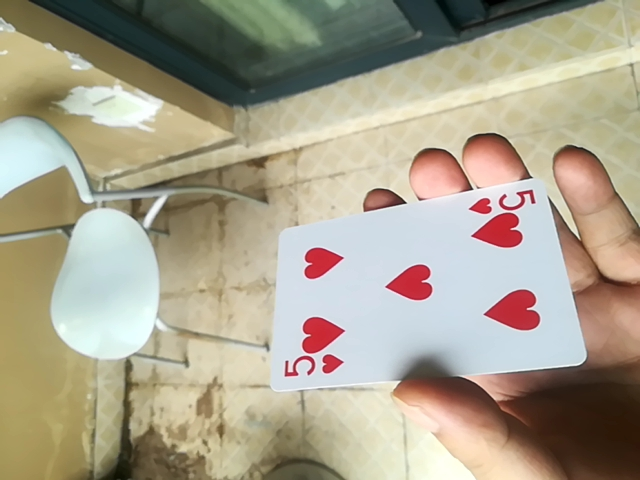hx 5: (268, 171, 582, 392)
